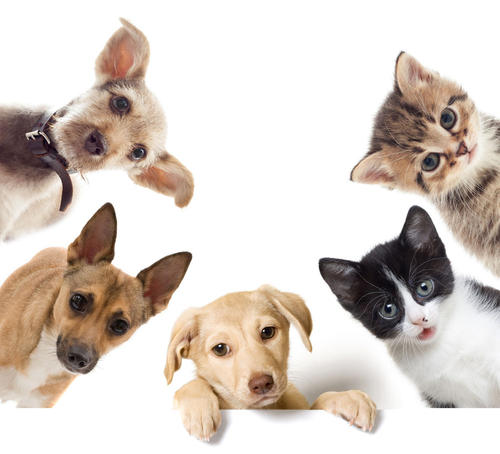cat: (343, 47, 494, 209), (316, 210, 472, 335)
dog: (43, 27, 189, 215), (42, 203, 190, 372), (167, 295, 313, 415)
